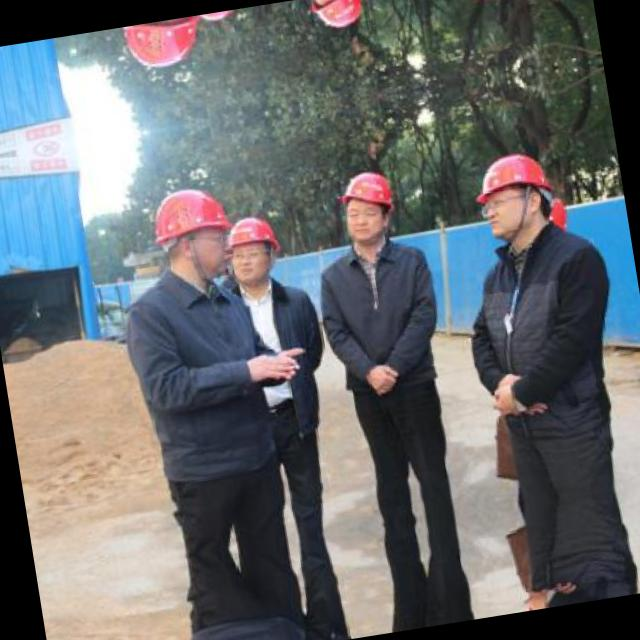helmet: (150, 178, 246, 290), (468, 140, 560, 242), (328, 163, 407, 250), (218, 206, 284, 286), (123, 15, 212, 74), (300, 0, 374, 35), (440, 0, 524, 11)
